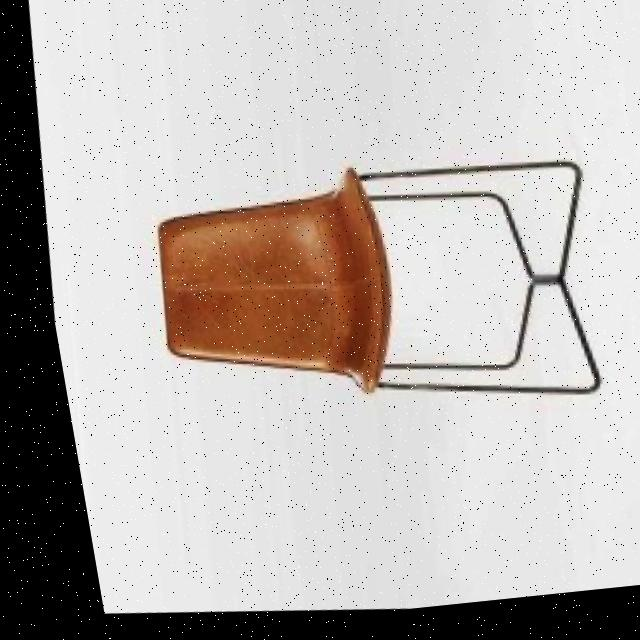sandalye: (122, 136, 604, 443)
